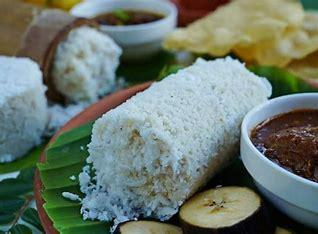Pittu: (85, 52, 248, 226)
